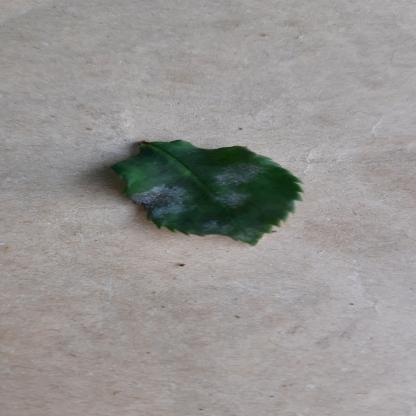powdery-mildew: (102, 138, 307, 250)
